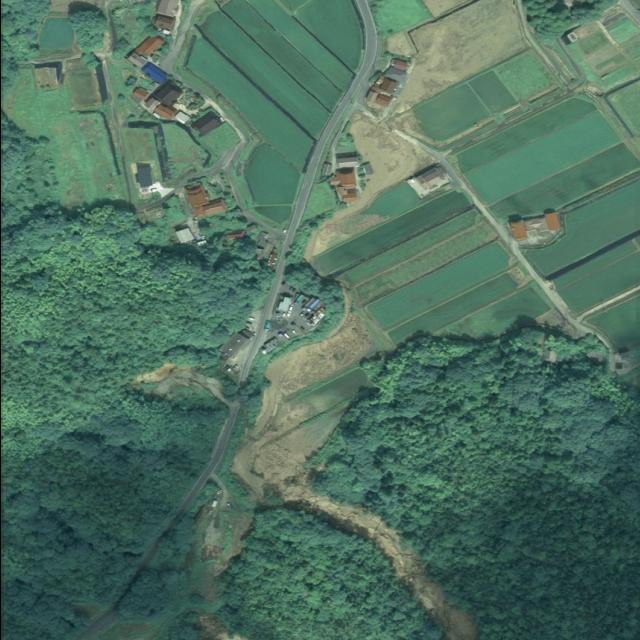landslide: (313, 497, 477, 639), (279, 313, 372, 390), (254, 446, 298, 479), (289, 479, 295, 482)
